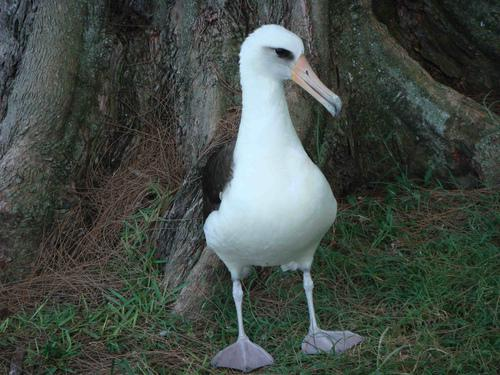002.Laysan_Albatross: (202, 25, 368, 372)
